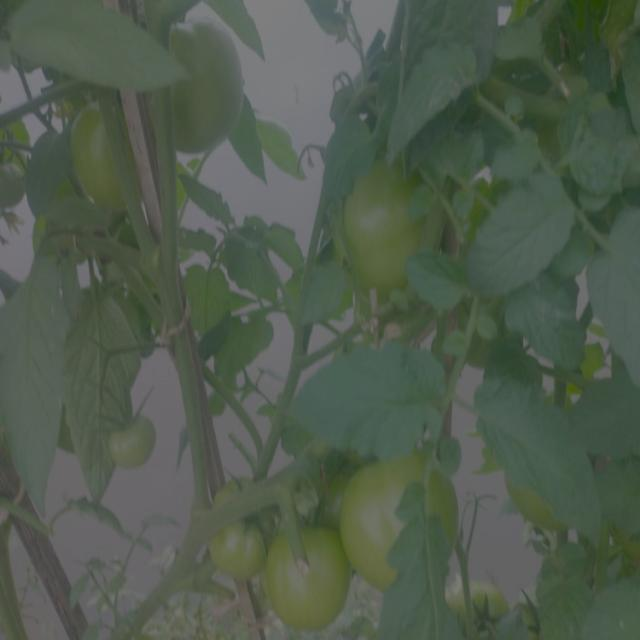tomato: (347, 464, 459, 584), (349, 161, 434, 285), (178, 32, 248, 153), (77, 101, 154, 211), (272, 525, 347, 626), (208, 482, 265, 574), (453, 583, 510, 637), (507, 479, 558, 536), (107, 412, 158, 466), (1, 158, 30, 210)
